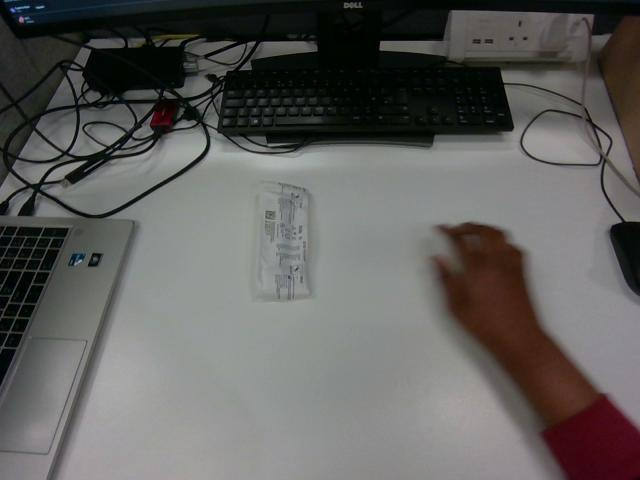syringe: (254, 182, 309, 300)
